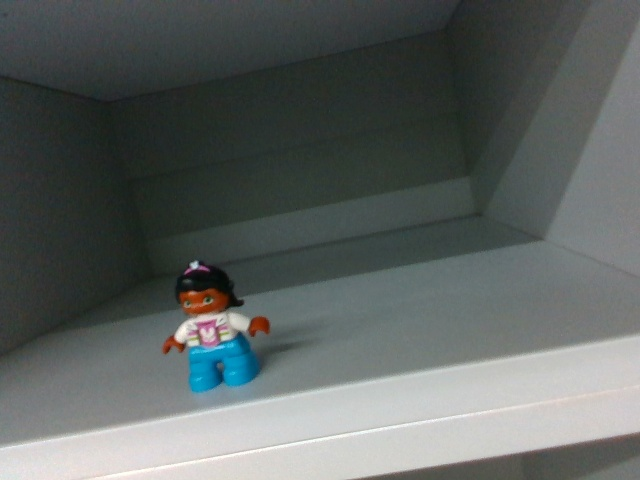people: (159, 255, 273, 397)
